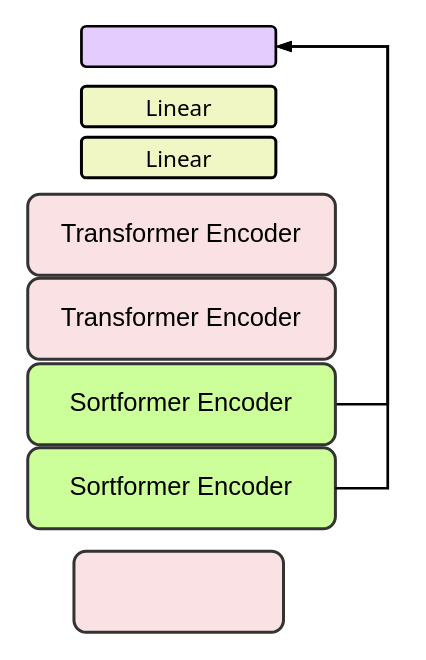
This 426x660 diagram has some shape labels left out. The shapes that lost their labels are listed below. From the top down, each one's centre as x and y in pixels, then its label:
At [177,45]: "Sigmoid Label".
At [178,591]: "Input Embedding".
